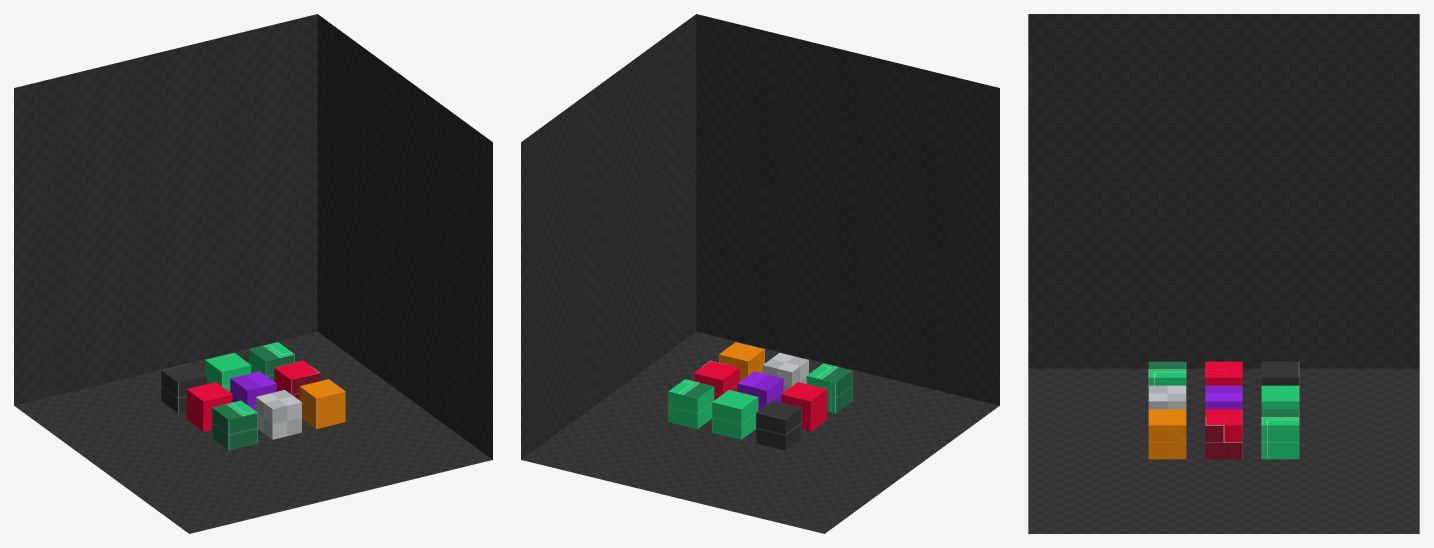
The picture shows the model from 3 angles, left to right: view 1: azimuth 30°, elevation 25°; view 2: azimuth 150°, elevation 25°; view 3: azimuth 270°, elevation 25°; orthographic projection. The views are drawn at different scales.
Parts seen in each view (by area): view 1: Cube.009, Cube.008, Cube.006, Cube.007, Cube.005, Cube.002, Cube, Cube.001, Cube.003, Cube.004; view 2: Cube.009, Cube.005, Cube.003, Cube.004, Cube.008, Cube.002, Cube, Cube.001, Cube.006, Cube.007; view 3: Cube.009, Cube.004, Cube.007, Cube.001, Cube.005, Cube.008, Cube.003, Cube.006, Cube, Cube.002.
Boxes of the visible parts, left/top/right/bottom form: Cube.009: left=14, top=14, right=492, bottom=533; Cube.008: left=212, top=400, right=257, bottom=450; Cube.006: left=255, top=390, right=301, bottom=439; Cube.007: left=299, top=379, right=345, bottom=428; Cube.005: left=161, top=363, right=207, bottom=413; Cube.002: left=186, top=382, right=232, bottom=431; Cube: left=230, top=371, right=276, bottom=410; Cube.001: left=274, top=360, right=320, bottom=400; Cube.003: left=205, top=353, right=251, bottom=391; Cube.004: left=249, top=342, right=294, bottom=381; Cube.009: left=521, top=14, right=999, bottom=533; Cube.005: left=756, top=400, right=801, bottom=450; Cube.003: left=712, top=390, right=758, bottom=439; Cube.004: left=668, top=379, right=714, bottom=428; Cube.008: left=806, top=363, right=852, bottom=413; Cube.002: left=781, top=382, right=827, bottom=431; Cube: left=737, top=371, right=783, bottom=410; Cube.001: left=693, top=360, right=739, bottom=400; Cube.006: left=762, top=353, right=808, bottom=391; Cube.007: left=719, top=342, right=764, bottom=381; Cube.009: left=1028, top=14, right=1419, bottom=533; Cube.004: left=1261, top=409, right=1299, bottom=459; Cube.007: left=1148, top=409, right=1186, bottom=459; Cube.001: left=1205, top=409, right=1242, bottom=459; Cube.005: left=1261, top=361, right=1299, bottom=385; Cube.008: left=1148, top=361, right=1186, bottom=385; Cube.003: left=1261, top=385, right=1299, bottom=409; Cube.006: left=1148, top=385, right=1186, bottom=409; Cube: left=1205, top=385, right=1242, bottom=409; Cube.002: left=1205, top=361, right=1242, bottom=385.
Size of the model in its own units: 20.78 by 20.78 by 20.78.
10 materials, 10 textured.
